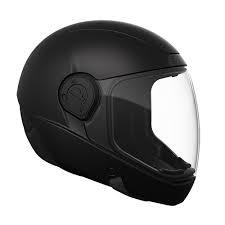helmet: (9, 17, 211, 202)
